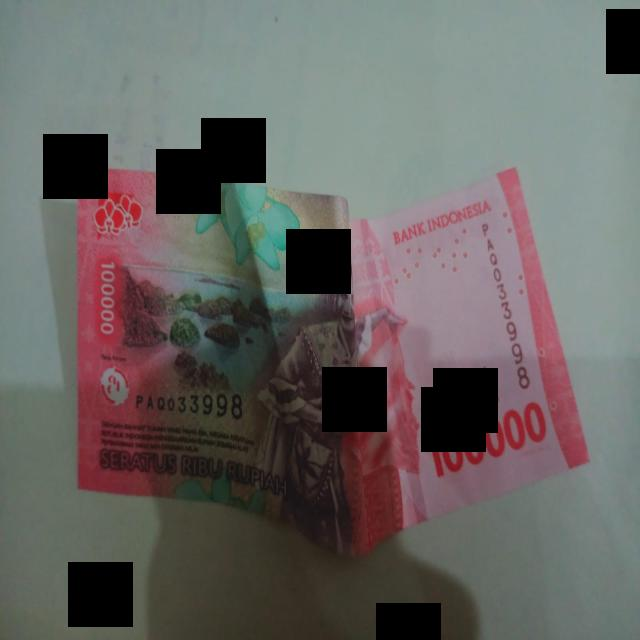seratusribu rupiah: (78, 167, 589, 555)
